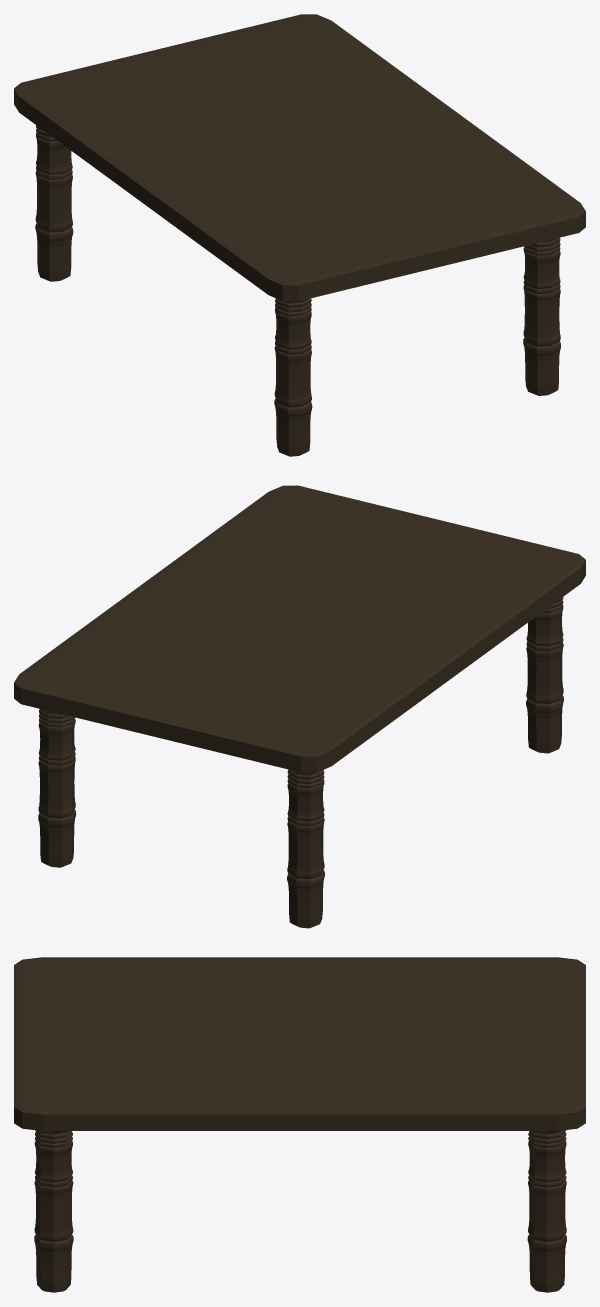
File: magicDesk.fbx
The picture shows the model from 3 angles, top to bottom: view 1: azimuth 30°, elevation 25°; view 2: azimuth 150°, elevation 25°; view 3: azimuth 270°, elevation 25°; orthographic projection. The views are drawn at different scales.
Visible parts, largest first — view 1: Cube.001; view 2: Cube.001; view 3: Cube.001.
Boxes of the visible parts, <box> form: Cube.001: <box>14,14,585,456</box>; Cube.001: <box>14,485,585,928</box>; Cube.001: <box>14,957,585,1292</box>.
Bounding box in the file's own units: 203 × 115 × 312.
